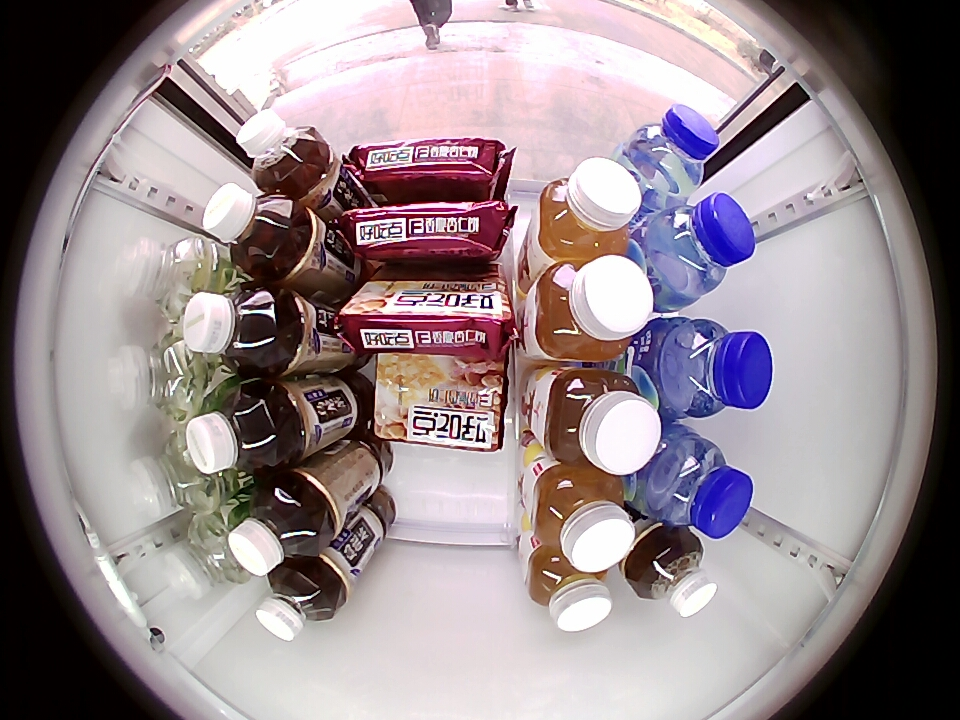chapai: (527, 254, 654, 362), (537, 368, 663, 475), (534, 157, 642, 261), (531, 466, 635, 572), (525, 546, 612, 632)
haochidian: (338, 276, 514, 353), (370, 357, 509, 451), (340, 200, 511, 263), (341, 137, 516, 196)
jianjiao: (118, 234, 221, 325), (128, 430, 222, 518), (109, 333, 204, 419), (163, 512, 249, 599)
maidong: (643, 192, 757, 300), (642, 435, 754, 539), (660, 319, 773, 418), (622, 105, 720, 201)
wulongcha: (228, 480, 325, 575), (184, 383, 283, 476), (202, 182, 299, 275), (182, 284, 281, 374), (631, 533, 717, 618), (237, 109, 323, 189), (256, 564, 338, 641)
